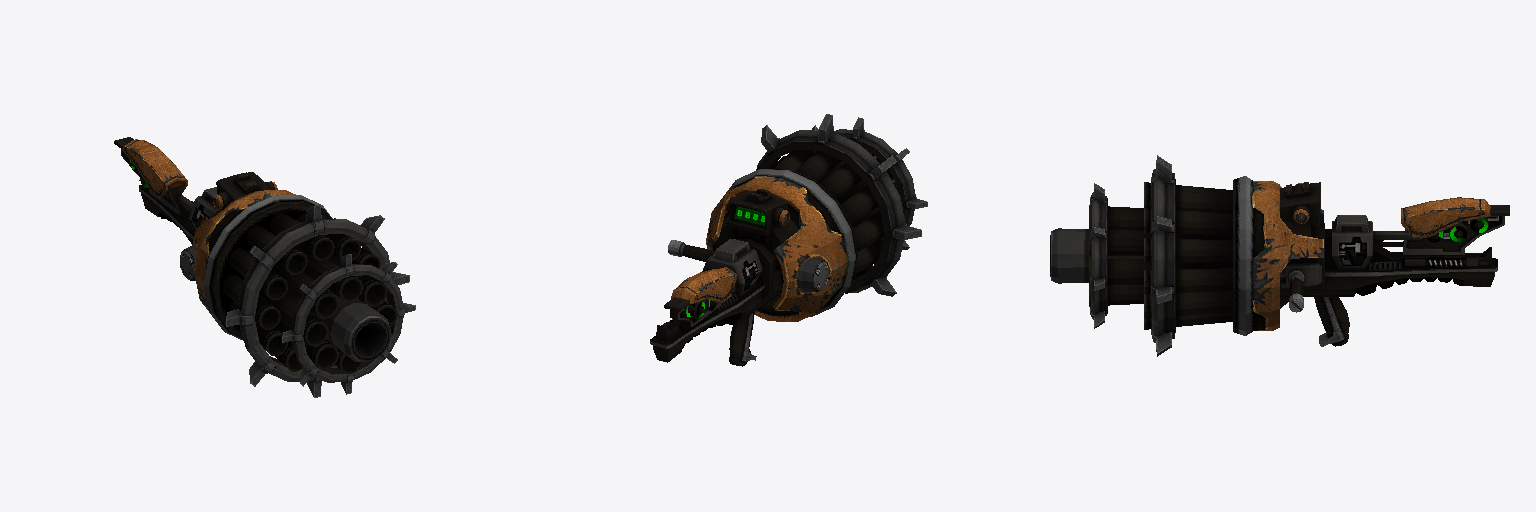
3 views of the same model, side by side, from view 1: azimuth 30°, elevation 25°; view 2: azimuth 150°, elevation 25°; view 3: azimuth 270°, elevation 25° (orthographic).
Visible parts, largest first — view 1: Mesh_1, Mesh_2, Mesh_3; view 2: Mesh_1, Mesh_3, Mesh_2; view 3: Mesh_1, Mesh_2, Mesh_3.
Part boxes in pixels (bbox=[...]): Mesh_1: bbox=[114, 137, 415, 397]; Mesh_2: bbox=[180, 195, 391, 370]; Mesh_3: bbox=[122, 139, 295, 310]; Mesh_1: bbox=[650, 114, 927, 366]; Mesh_3: bbox=[671, 177, 845, 321]; Mesh_2: bbox=[668, 150, 897, 316]; Mesh_1: bbox=[1090, 155, 1509, 356]; Mesh_2: bbox=[1050, 176, 1303, 335]; Mesh_3: bbox=[1254, 181, 1490, 330].
Bounding box in the file's own units: 9.58 × 9.58 × 20.69.
Materials: 2 (2 with a texture image).